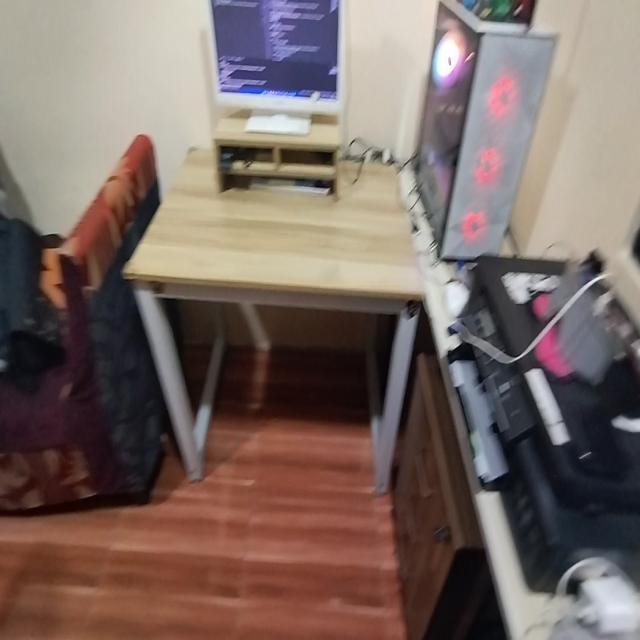table: (123, 126, 431, 500)
